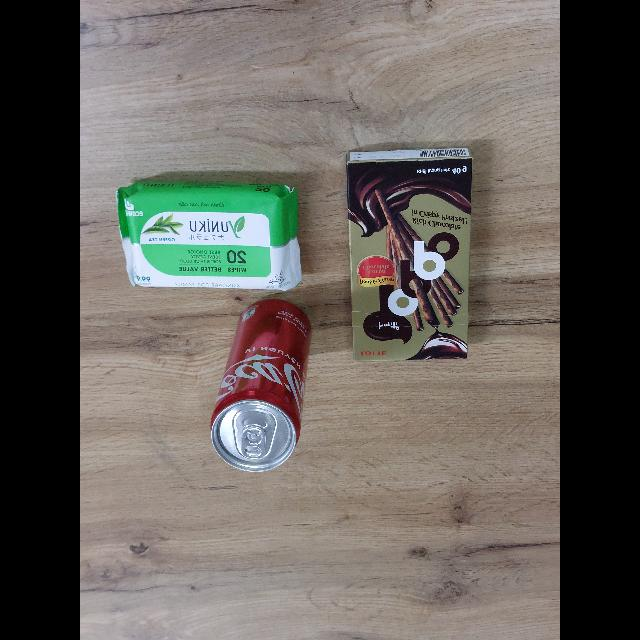banh_toppo_socola: (345, 144, 473, 360)
coca_cola: (210, 295, 312, 471)
khan_giay: (116, 172, 302, 289)
